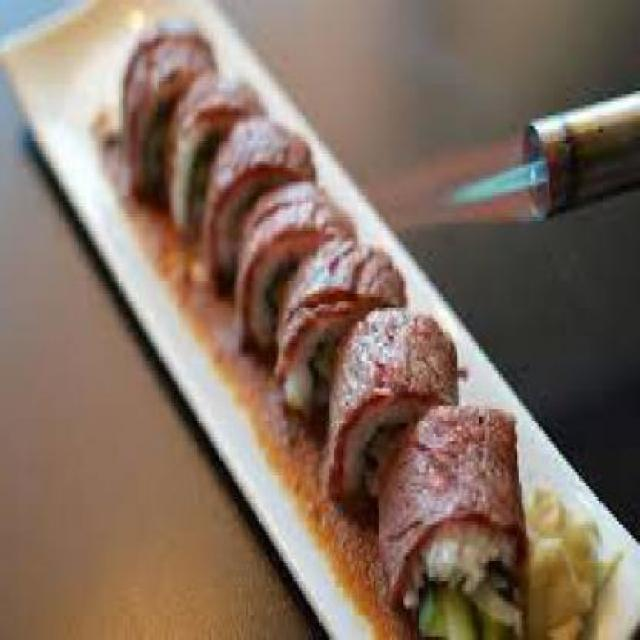steak: (419, 412, 513, 508), (352, 314, 443, 395), (292, 248, 392, 304), (267, 182, 342, 238), (237, 126, 301, 174), (197, 70, 257, 116), (153, 24, 209, 70)
sushi: (104, 17, 536, 612)
